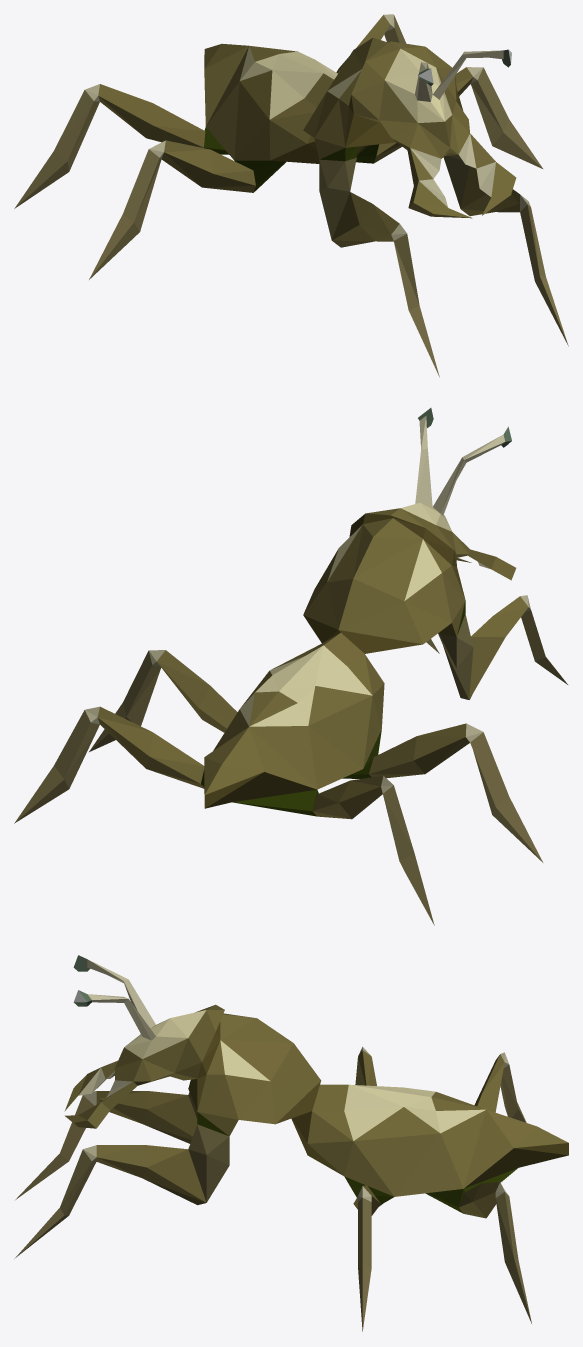
Rendered from cave_bug.glb.
3 renders of one model, top to bottom at view 1: azimuth 30°, elevation 25°; view 2: azimuth 150°, elevation 25°; view 3: azimuth 270°, elevation 25°, orthographic. The views are drawn at different scales.
Size of the model in its own units: 106 by 62 by 121.
Materials: 1 (1 with a texture image).
